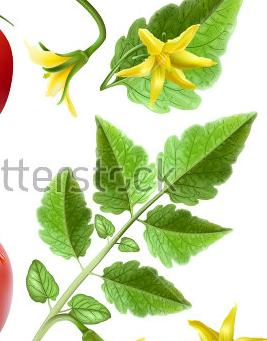Tomato leaf: (74, 111, 171, 228), (157, 99, 264, 200), (125, 205, 267, 266), (32, 160, 99, 274), (102, 259, 209, 322)
